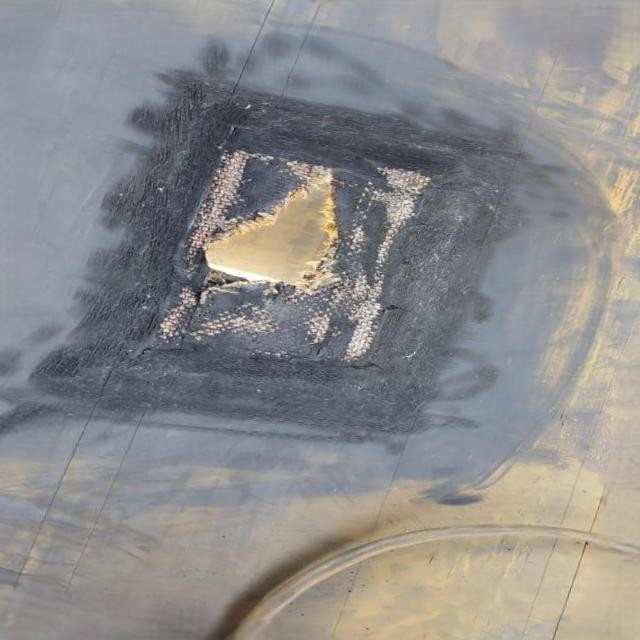Tear: (128, 138, 432, 375)
